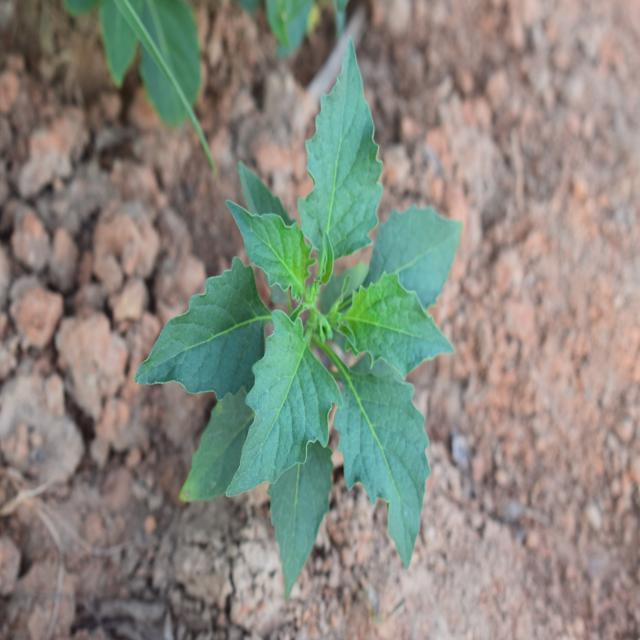Black_nightshade: (180, 99, 470, 571)
